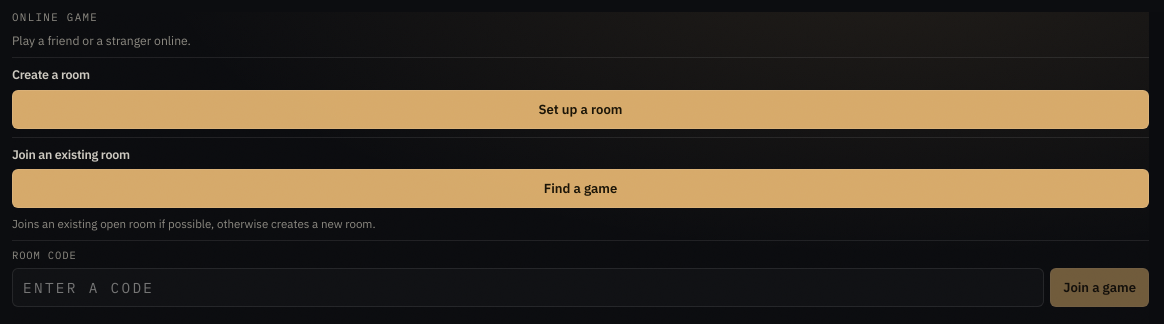
Scenario: OnlinePanel — getting into a game › refuses to join until the code is as long as the ones the server issues
Expected: the button "Join a game" is disabled, left=1050, top=268, right=1149, bottom=307
Type "AB2K9" into the field labelled "Room code". click: (528, 288)
box: left=12, top=268, right=1044, bottom=307
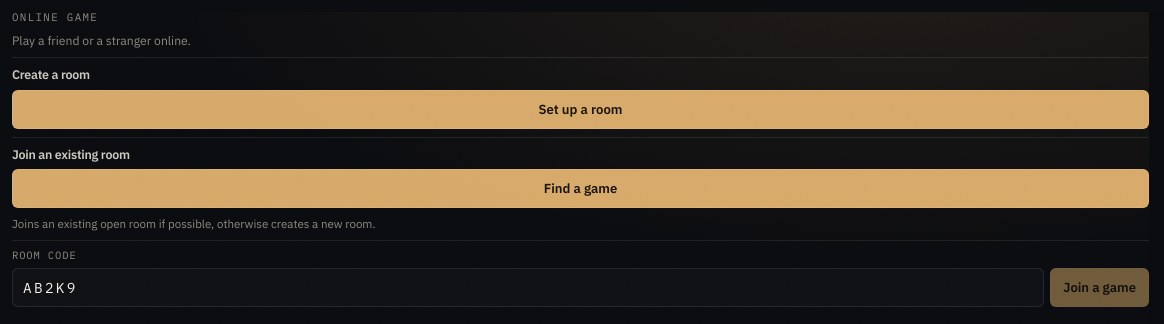
Expected: the button "Join a game" is disabled, left=1050, top=268, right=1149, bottom=307
Replace the text in the field labelled "Room code" with "AB2K9M". click: (528, 288)
box: left=12, top=268, right=1044, bottom=307
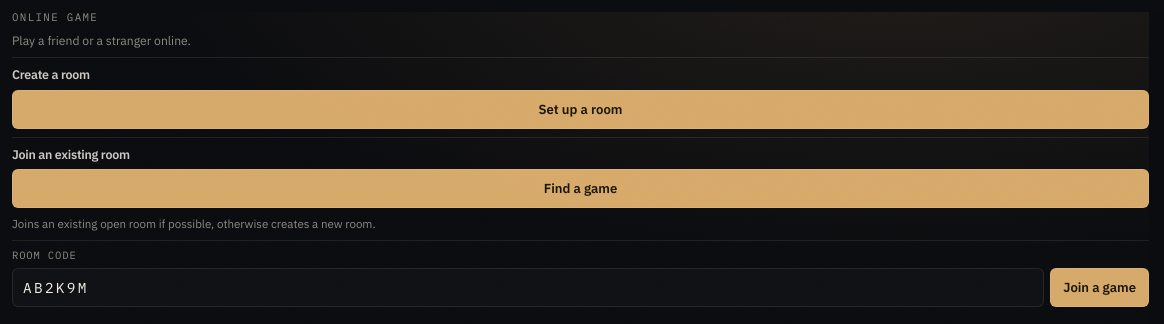
Expected: the button "Join a game" is enabled, left=1050, top=268, right=1149, bottom=307
